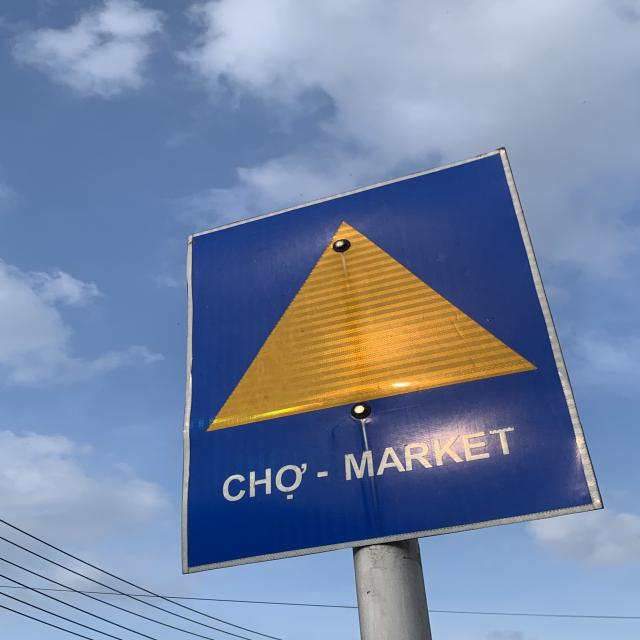Cho_Quay_Xe: (184, 149, 594, 568)
